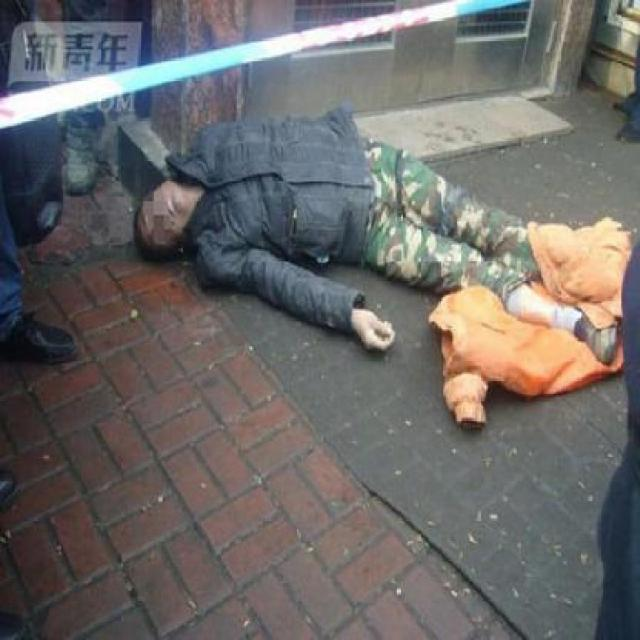fall: (129, 85, 629, 357)
